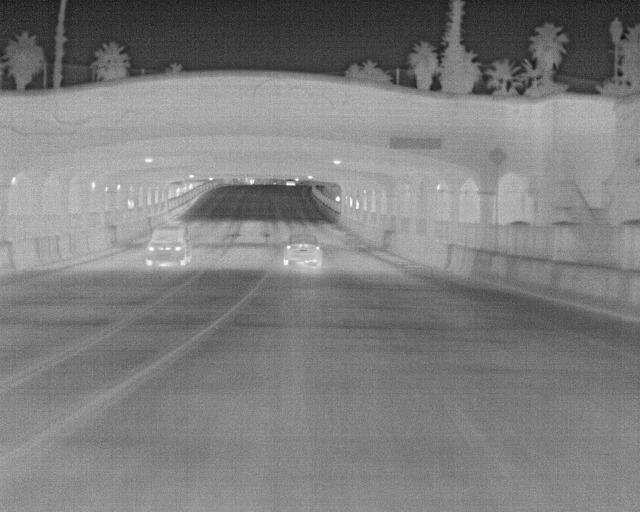car: (143, 223, 192, 267), (280, 232, 324, 268)
